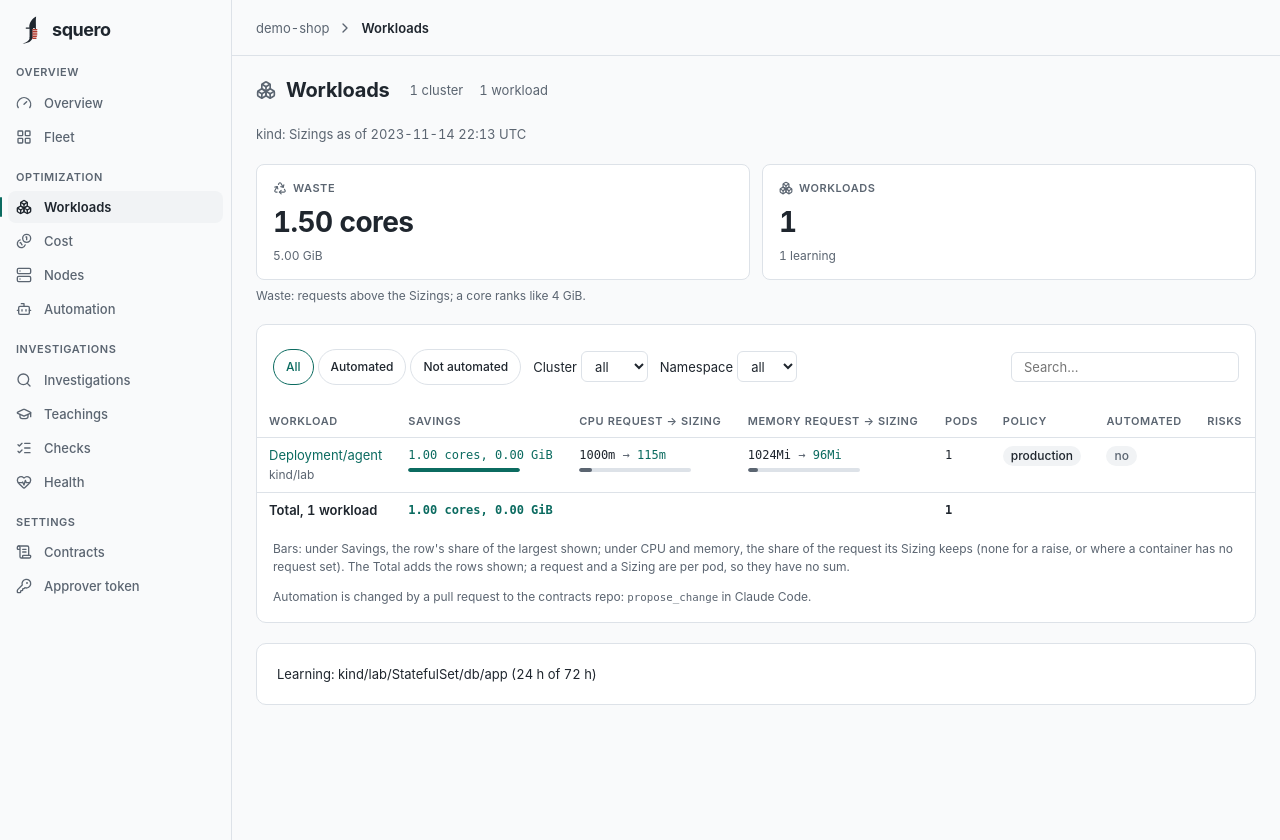
it: a DaemonSet's container its Actuator applies by instance type says the one Sizing is not applied
Click the button "Deployment/agent" at (326, 456), box [269,446,382,466]
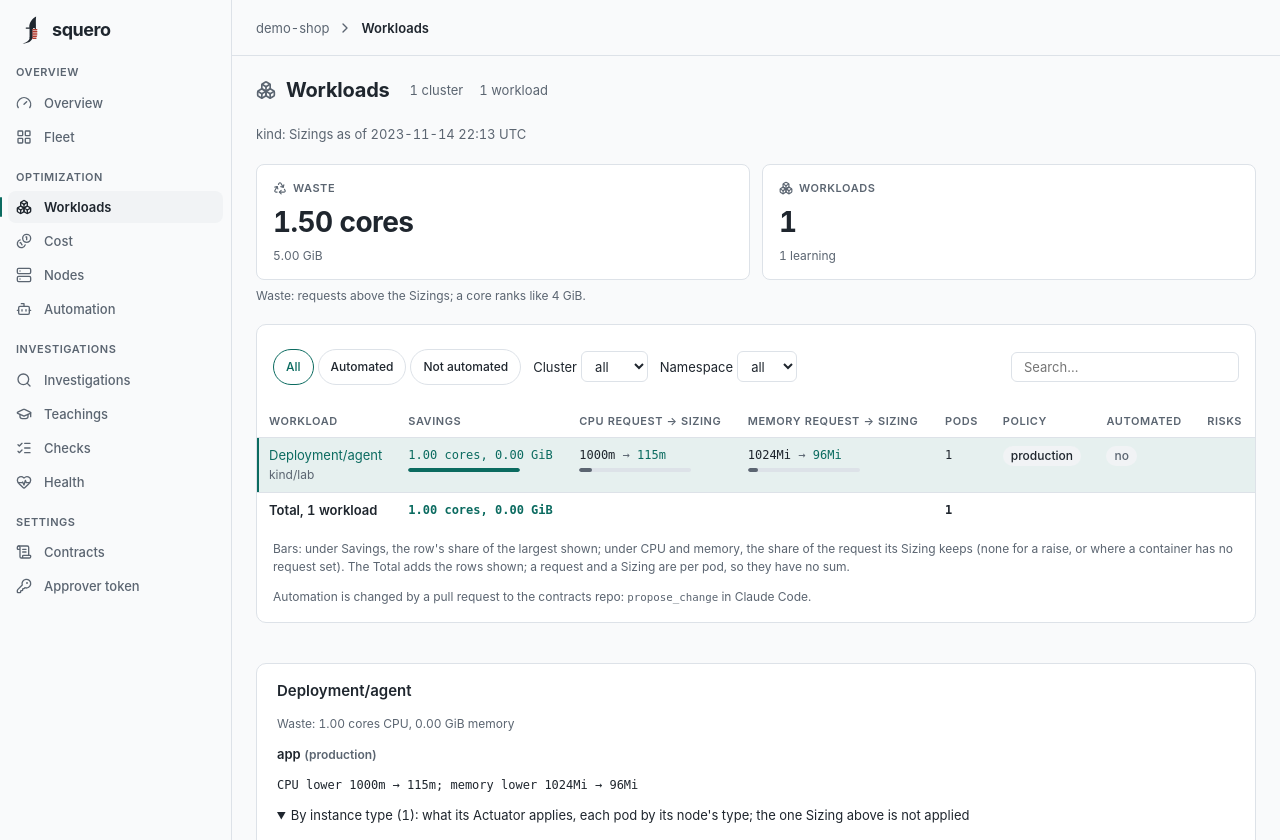
Now the 4th heading shows "By instance type (1): what its Actuator applies, each pod by its node's type; the one Sizing above is not applied", box [291,807,970,823]
